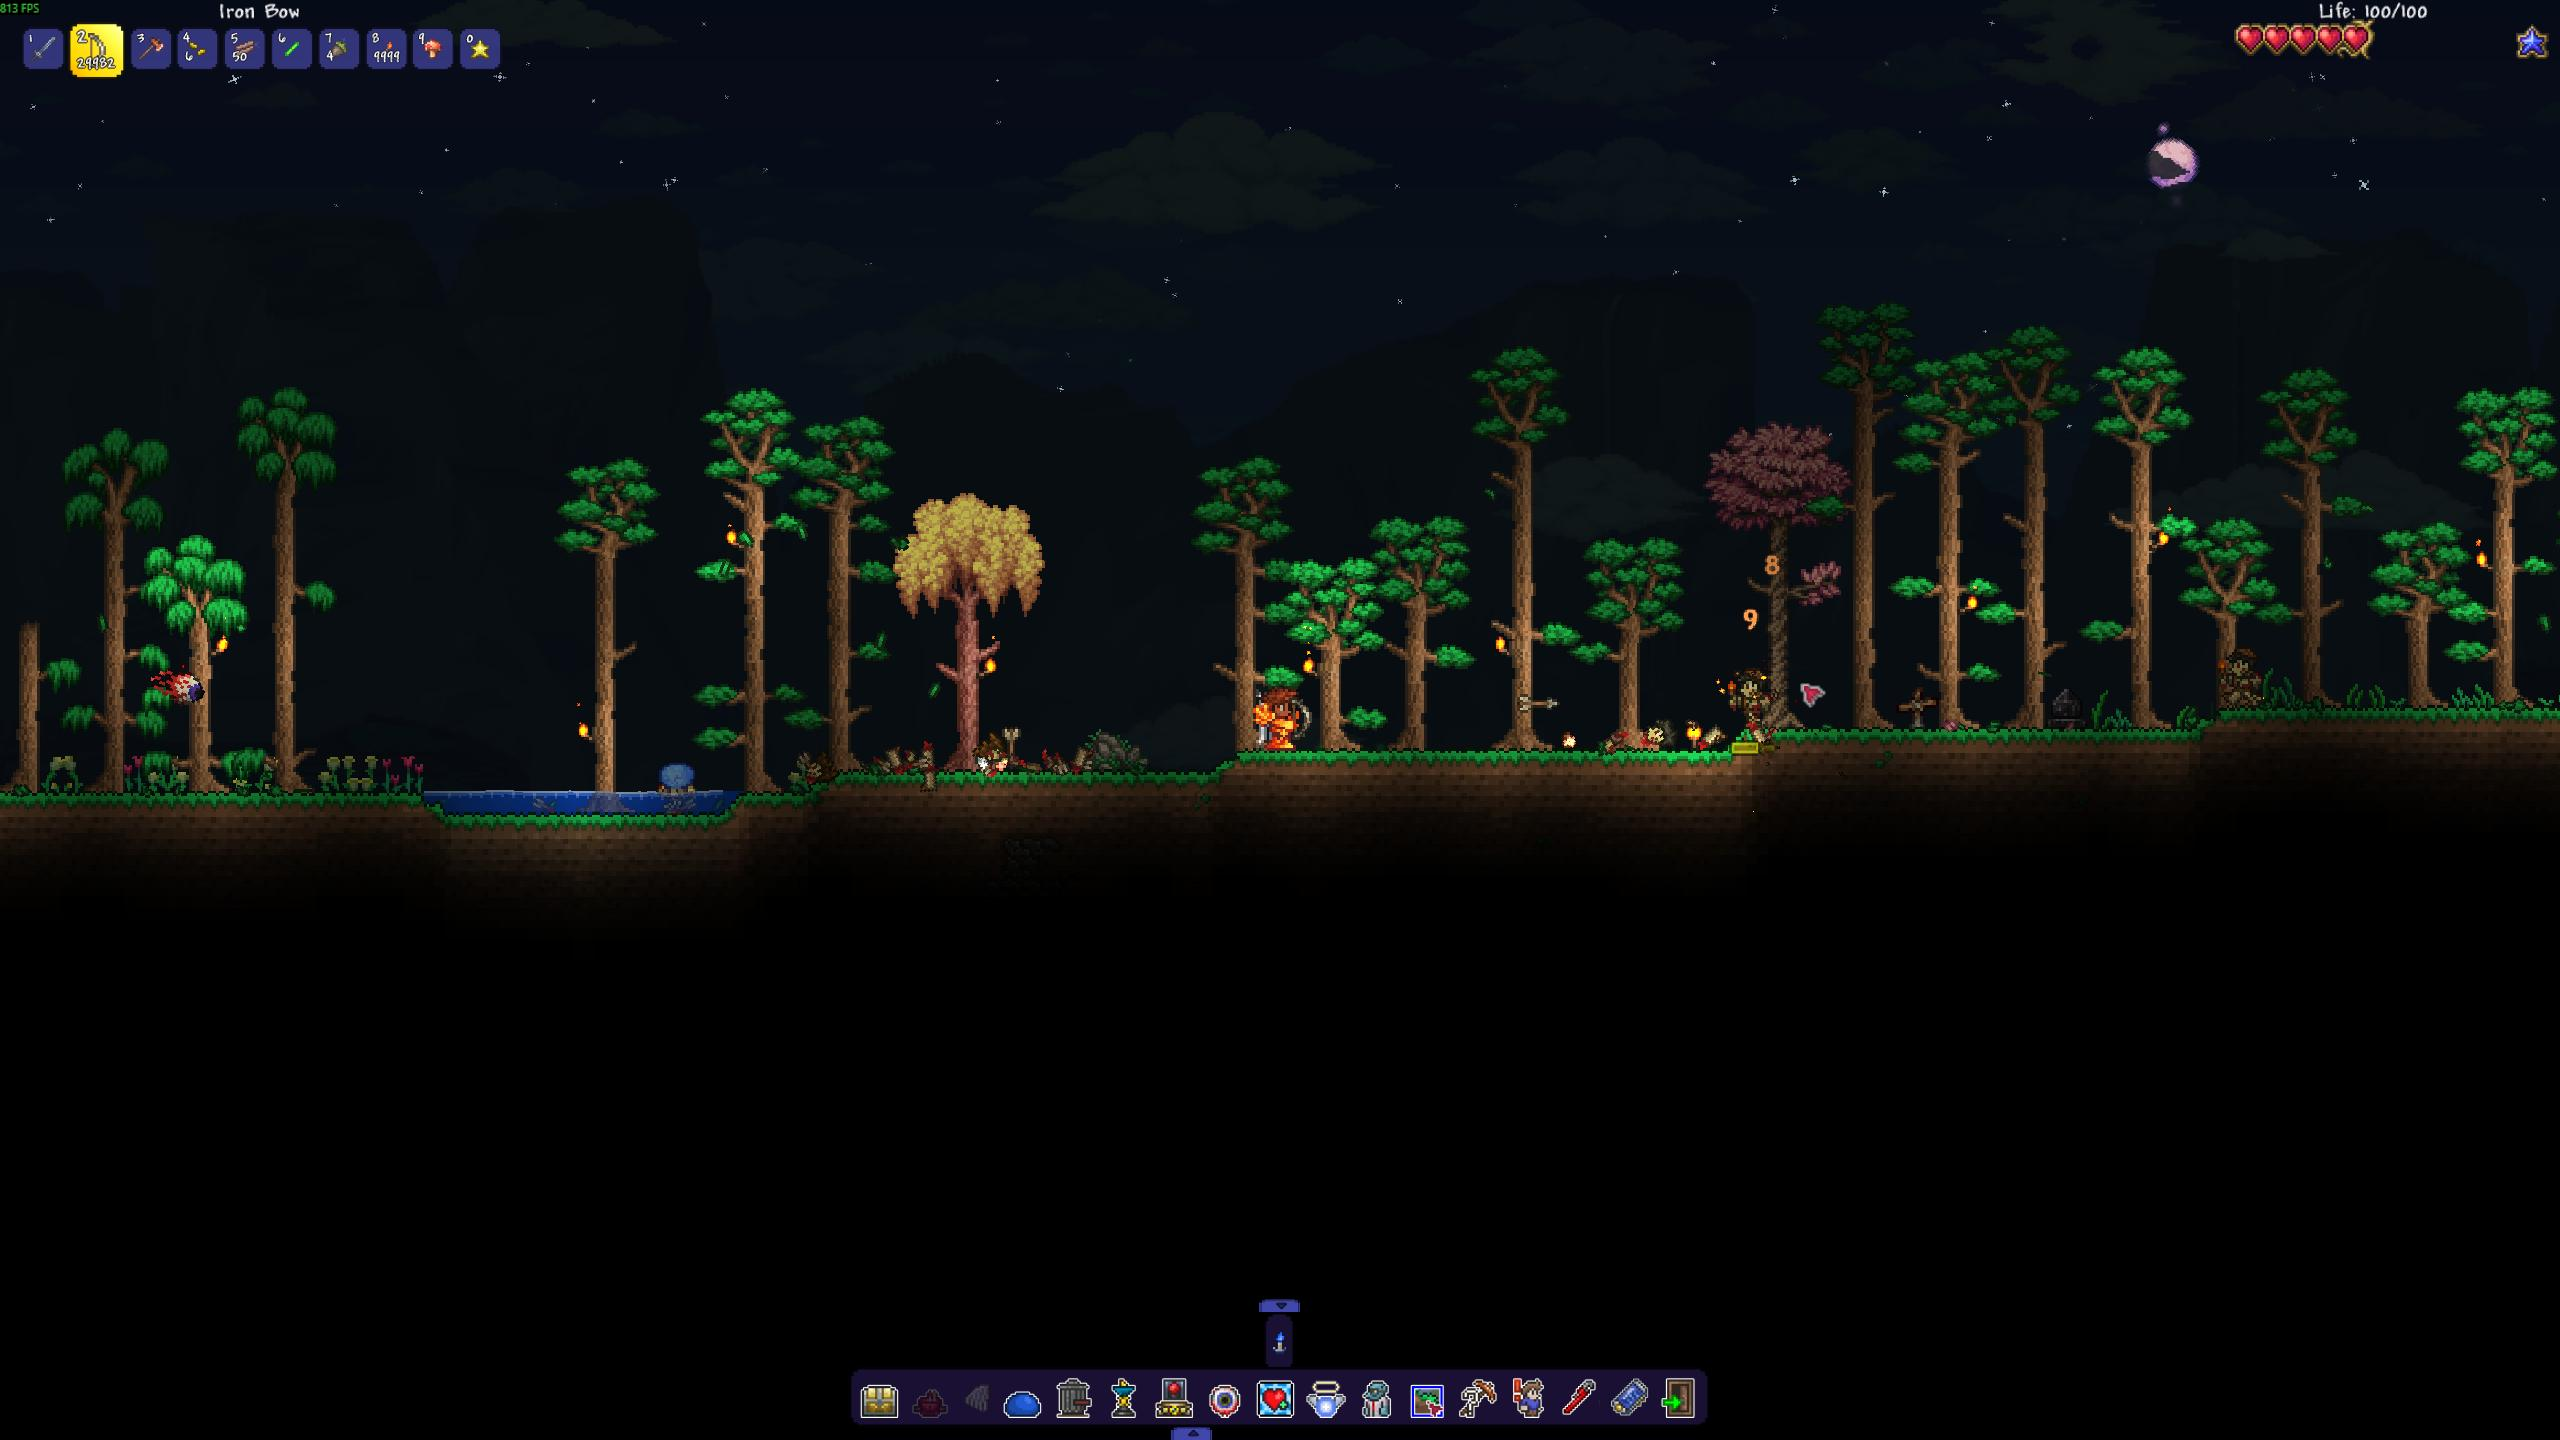Demon Eye: (146, 663, 211, 710)
Zombie: (1723, 663, 1774, 730), (2212, 647, 2263, 707), (652, 758, 702, 816)
